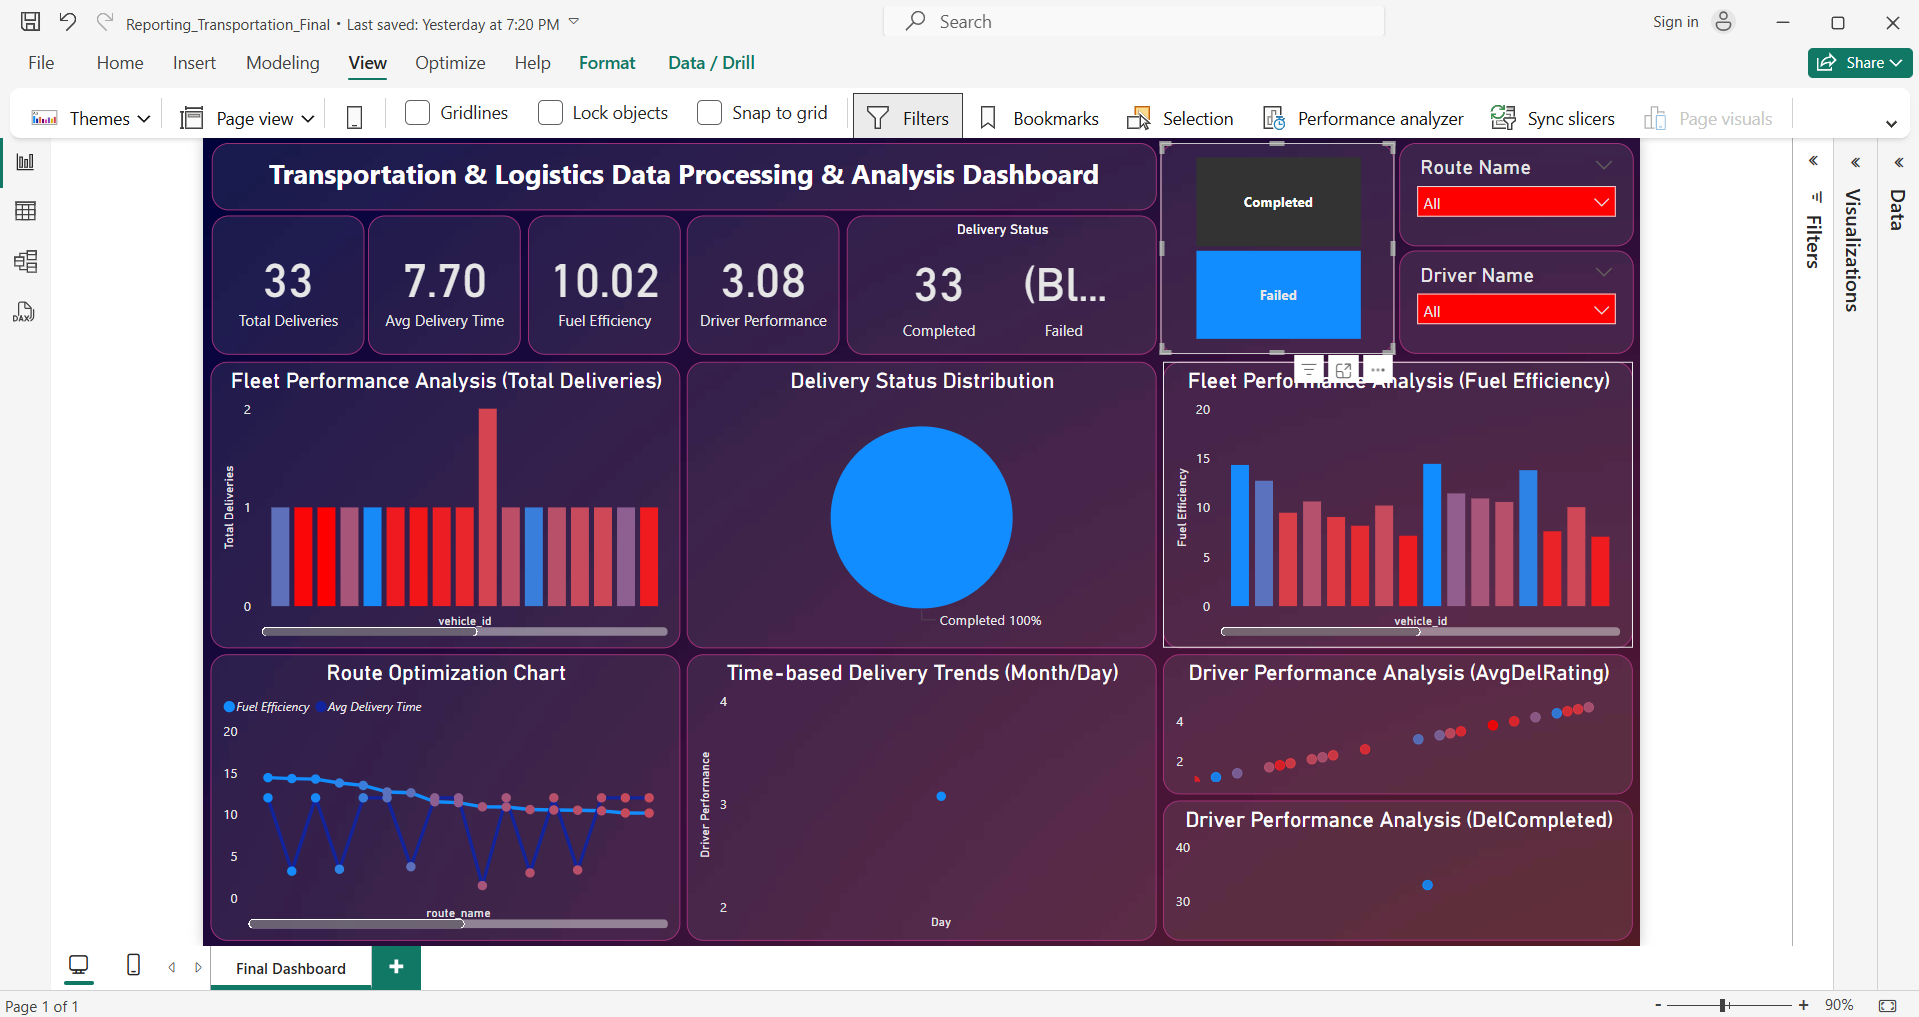

What the dashboard file says about the page in this screenshot:
{"tool":"powerbi","page":{"name":"Final Dashboard","canvas":[1280,720],"ordinal":0},"visuals":[{"type":"textbox","box":[7.4,4.9,841.7,60],"z":0},{"type":"columnChart","title":"Fleet Performance Analysis (Fuel Efficiency)","fields":{"Category":["gold_db transportation_gold.vehicle_id"],"Y":["gold_db transportation_gold.Avg Fuel Efficiency"]},"box":[855,199,418,255.2],"z":1000},{"type":"pieChart","title":"Delivery Status Distribution","fields":{"Category":["gold_db transportation_gold.delivery_status"],"Y":["gold_db transportation_gold.route_name"]},"box":[431,199,418,255.2],"z":2000},{"type":"columnChart","title":"Fleet Performance Analysis (Total Deliveries)","fields":{"Category":["gold_db transportation_gold.vehicle_id"],"Y":["gold_db transportation_gold.Total Deliveries"]},"box":[7,199,418,255.2],"z":3000},{"type":"card","fields":{"Values":["gold_db transportation_gold.Total Deliveries"]},"box":[7.4,68.7,136.2,123.9],"z":4000},{"type":"card","fields":{"Values":["gold_db transportation_gold.Avg Delivery Time"]},"box":[147.2,68.7,136.2,123.9],"z":5000},{"type":"card","fields":{"Values":["gold_db transportation_gold.Avg Fuel Efficiency"]},"box":[289.6,68.7,136.2,123.9],"z":6000},{"type":"card","fields":{"Values":["gold_db transportation_gold.Driver Performance"]},"box":[430.7,68.7,136.2,123.9],"z":7000},{"type":"cardVisual","title":"Delivery Status","fields":{"Data":["gold_db transportation_gold.Completed Deliveries","gold_db transportation_gold.Failed Deliveries"]},"box":[573,68.7,276.1,123.9],"z":8000},{"type":"lineChart","title":"Route Optimization Chart","fields":{"Y":["gold_db transportation_gold.Fuel Efficiency","gold_db transportation_gold.Average Delivery Time"],"Category":["gold_db transportation_gold.route_name"]},"box":[7,460.1,418.4,255.2],"z":9000},{"type":"slicer","fields":{"Values":["gold_db transportation_gold.delivery_status"]},"box":[853,4.9,208,187.7],"z":10000},{"type":"slicer","fields":{"Values":["gold_db transportation_gold.route_name"]},"box":[1065,4.9,208.6,92],"z":11000},{"type":"slicer","fields":{"Values":["gold_db transportation_gold.driver_name"]},"box":[1065,100.6,208.6,92],"z":12000},{"type":"scatterChart","title":"Driver Performance Analysis (DelCompleted)","fields":{"X":["gold_db transportation_gold.Driver Performance"],"Y":["gold_db transportation_gold.Completed"]},"box":[855.2,590.2,418.4,125.2],"z":13000},{"type":"scatterChart","title":"Driver Performance Analysis (AvgDelRating)","fields":{"X":["gold_db transportation_gold.Driver Performance"],"Y":["gold_db transportation_gold.driver_rating"]},"box":[855.2,460.1,418.4,125],"z":14000},{"type":"lineChart","title":"Time-based Delivery Trends (Month/Day)","fields":{"Y":["gold_db transportation_gold.Driver Performance"],"Category":["gold_db transportation_gold.report_date.Variation.Date Hierarchy.Month","gold_db transportation_gold.report_date.Variation.Date Hierarchy.Day"]},"box":[431,460,418,255.2],"z":15000}]}

Visuals, with their boxes on the page's 1280x720 design canvas (x1, y1, x2, y2). These are canvas units, not pixel positions in the 1919x1017 screenshot, which may show the page scaled, cropped or inside an application window:
textbox: <region>7, 5, 849, 65</region>
"Fleet Performance Analysis (Fuel Efficiency)" columnChart: <region>855, 199, 1273, 454</region>
"Delivery Status Distribution" pieChart: <region>431, 199, 849, 454</region>
"Fleet Performance Analysis (Total Deliveries)" columnChart: <region>7, 199, 425, 454</region>
card - gold_db transportation_gold.Total Deliveries: <region>7, 69, 144, 193</region>
card - gold_db transportation_gold.Avg Delivery Time: <region>147, 69, 283, 193</region>
card - gold_db transportation_gold.Avg Fuel Efficiency: <region>290, 69, 426, 193</region>
card - gold_db transportation_gold.Driver Performance: <region>431, 69, 567, 193</region>
"Delivery Status" cardVisual: <region>573, 69, 849, 193</region>
"Route Optimization Chart" lineChart: <region>7, 460, 425, 715</region>
slicer - gold_db transportation_gold.delivery_status: <region>853, 5, 1061, 193</region>
slicer - gold_db transportation_gold.route_name: <region>1065, 5, 1274, 97</region>
slicer - gold_db transportation_gold.driver_name: <region>1065, 101, 1274, 193</region>
"Driver Performance Analysis (DelCompleted)" scatterChart: <region>855, 590, 1274, 715</region>
"Driver Performance Analysis (AvgDelRating)" scatterChart: <region>855, 460, 1274, 585</region>
"Time-based Delivery Trends (Month/Day)" lineChart: <region>431, 460, 849, 715</region>
